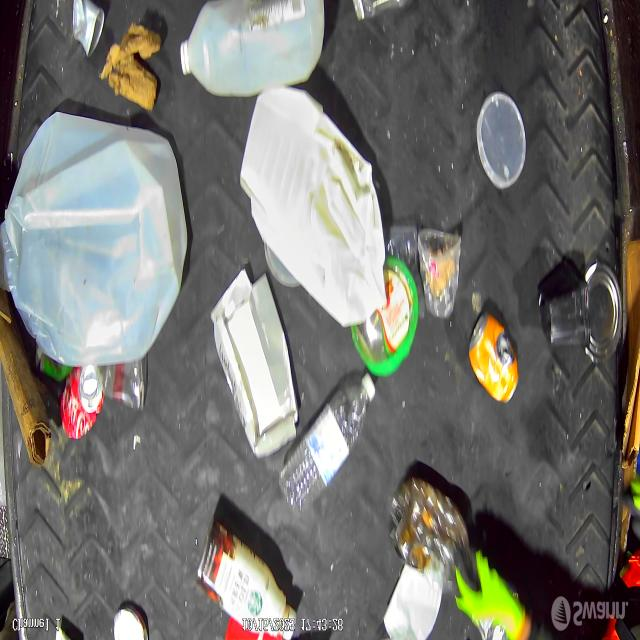can: (544, 258, 620, 360), (466, 312, 519, 410), (56, 358, 106, 446)
milk_jug: (0, 112, 184, 366), (244, 80, 388, 328), (182, 0, 328, 105)
plastic_bottle: (278, 369, 378, 521)
